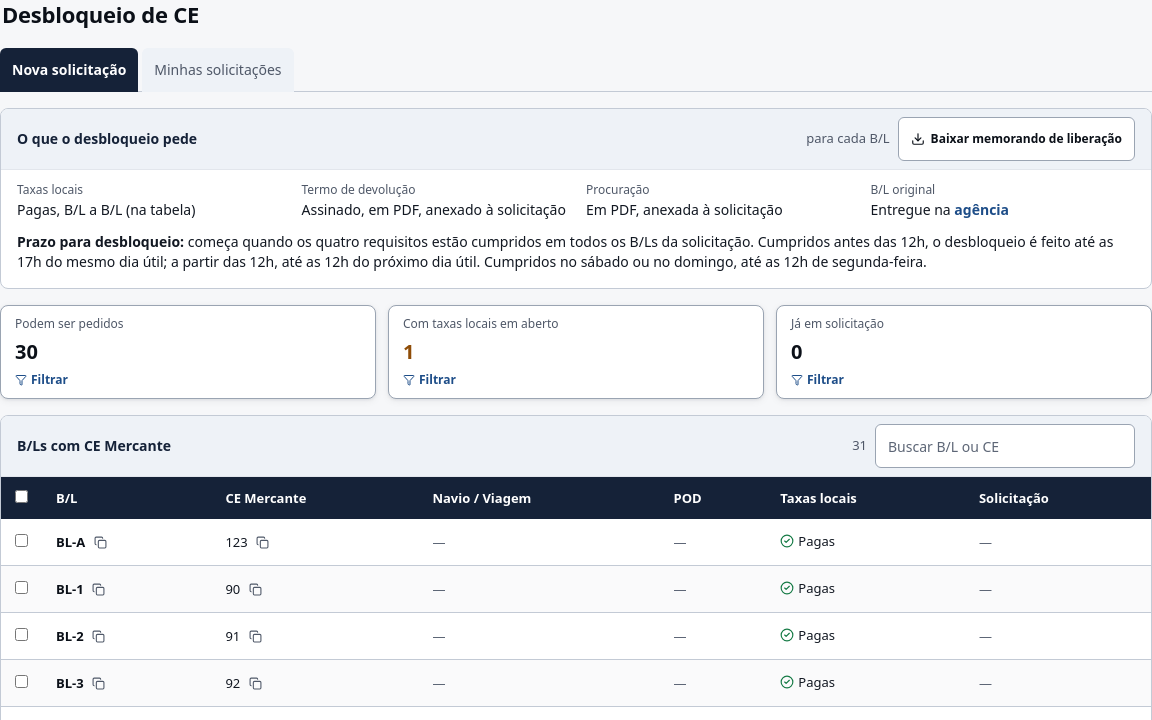
Scenario: o cabeçalho seleciona os B/Ls disponíveis de todas as páginas do filtro
Click the checkbox named "Selecionar todos os B/Ls disponíveis do filtro (30)" at point(22, 496), box [15,490,28,503]
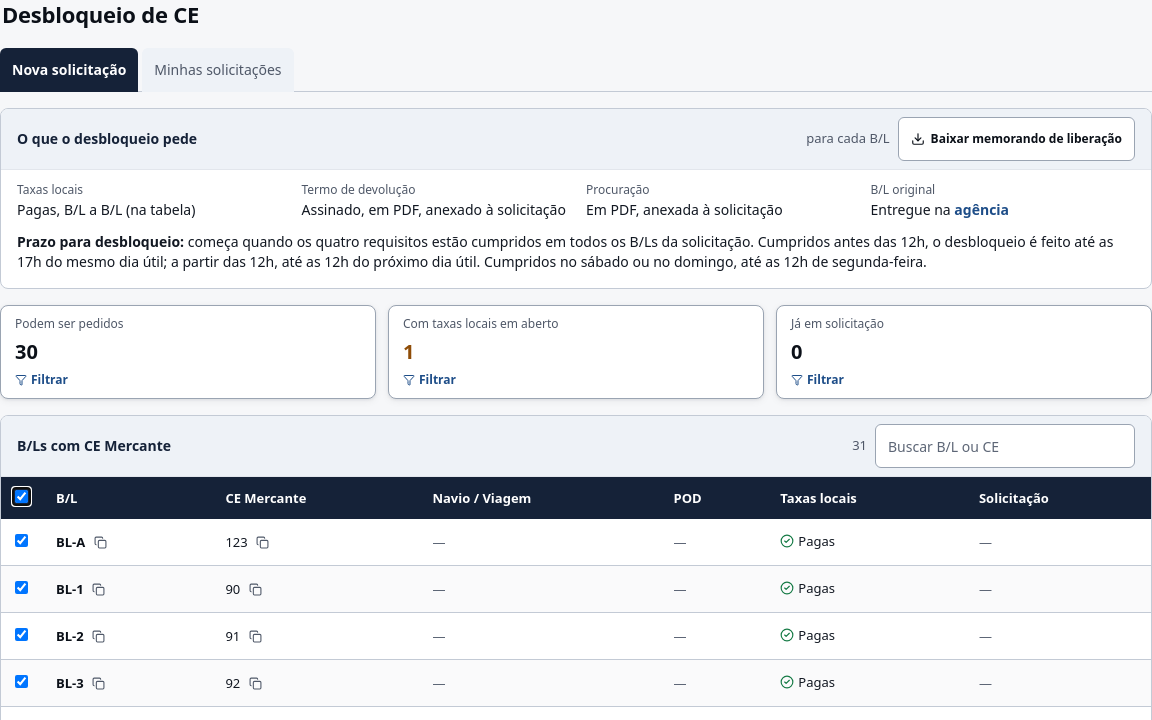
Click the checkbox named "Desmarcar todos os B/Ls disponíveis do filtro (30)" at point(22, 496), box [15,490,28,503]
(page scrolled)
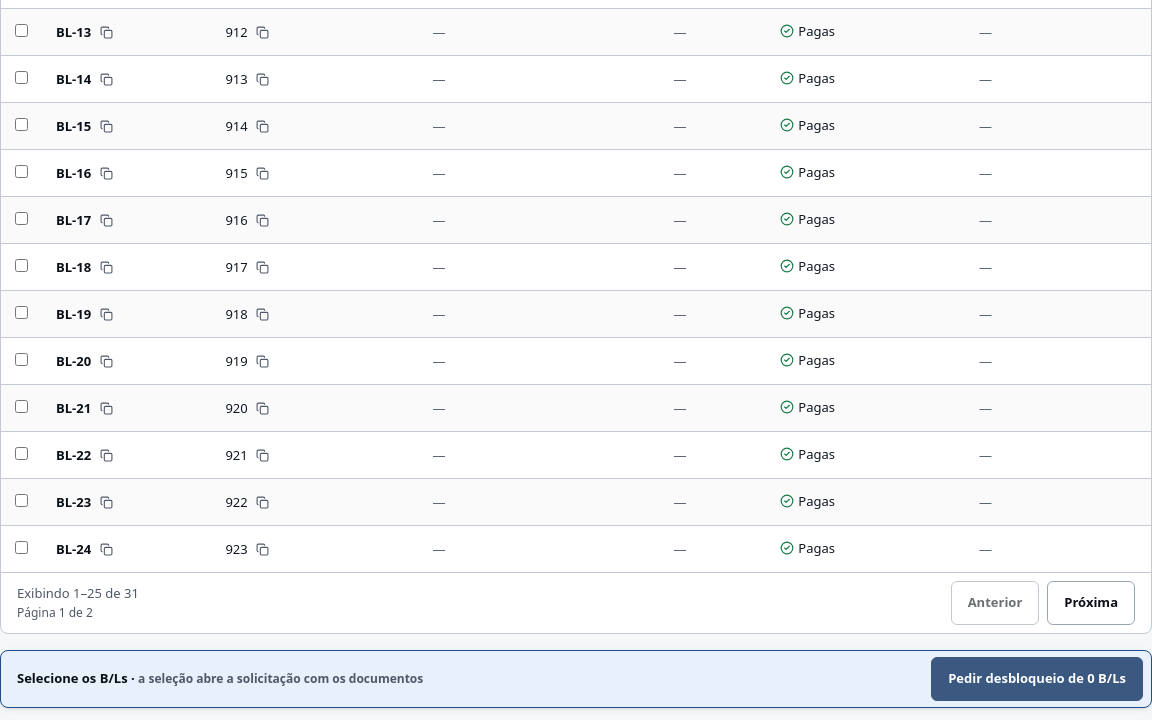
Expected: the button "Pedir desbloqueio de 0 B/Ls" is shown, [931,657,1143,701]
